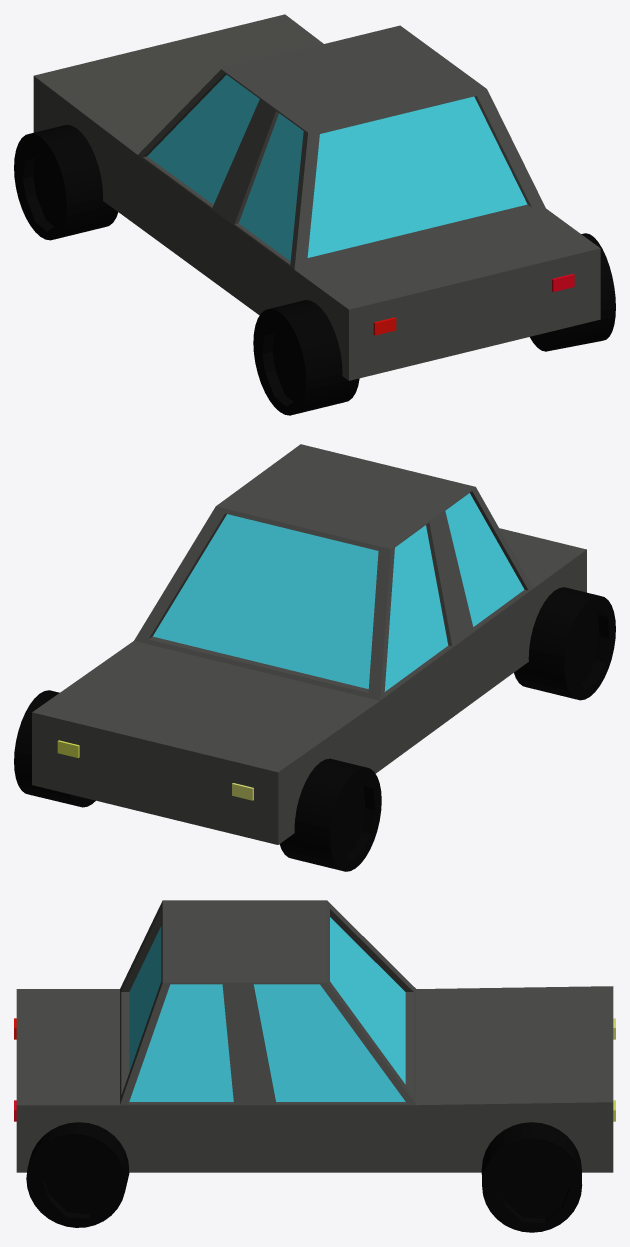
Rendered from Players Car.fbx.
3 renders of one model, top to bottom at view 1: azimuth 30°, elevation 25°; view 2: azimuth 150°, elevation 25°; view 3: azimuth 270°, elevation 25°, orthographic. The views are drawn at different scales.
Visible parts, largest first — view 1: Cube, Cylinder.001, Cylinder.005, Cylinder.003; view 2: Cube, Cylinder.005, Cylinder.001, Cylinder.002; view 3: Cube, Cylinder.002, Cylinder.003.
Part boxes in pixels (left/top/right/bottom): Cube: left=33, top=14, right=600, bottom=380; Cylinder.001: left=253, top=300, right=359, bottom=415; Cylinder.005: left=14, top=124, right=118, bottom=240; Cylinder.003: left=530, top=233, right=615, bottom=351; Cube: left=32, top=444, right=586, bottom=844; Cylinder.005: left=279, top=758, right=381, bottom=871; Cylinder.001: left=514, top=587, right=615, bottom=700; Cylinder.002: left=14, top=690, right=95, bottom=807; Cube: left=16, top=900, right=613, bottom=1172; Cylinder.002: left=481, top=1122, right=582, bottom=1232; Cylinder.003: left=26, top=1122, right=129, bottom=1227.
Size of the model in its own units: 257 by 174 by 438.
